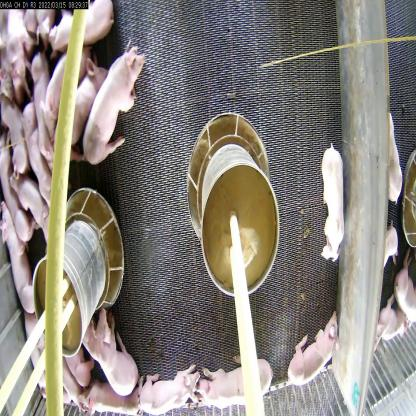Pig: (84, 44, 145, 155), (87, 301, 144, 396), (0, 209, 37, 331), (17, 96, 54, 205), (134, 356, 200, 416), (290, 310, 338, 391), (200, 364, 272, 412), (60, 59, 102, 139), (316, 148, 346, 259), (52, 0, 116, 48), (41, 49, 76, 127), (16, 173, 42, 234)
